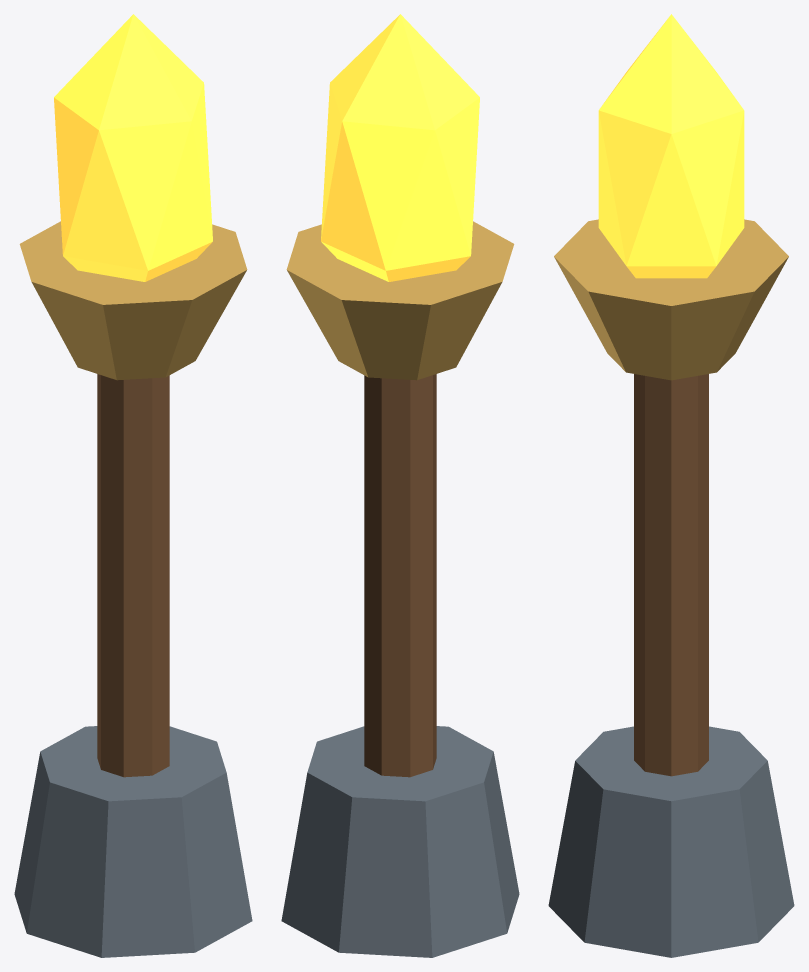
Rendered from torch.glb.
3 views of the same model, side by side, from view 1: azimuth 30°, elevation 25°; view 2: azimuth 150°, elevation 25°; view 3: azimuth 270°, elevation 25° (orthographic).
Visible parts, largest first — view 1: torch; view 2: torch; view 3: torch.
Part boxes in pixels (left/top/right/bottom): torch: left=14, top=14, right=252, bottom=957; torch: left=281, top=14, right=519, bottom=957; torch: left=548, top=14, right=794, bottom=957.
Size of the model in its own units: 0.46 by 1.84 by 0.46.
